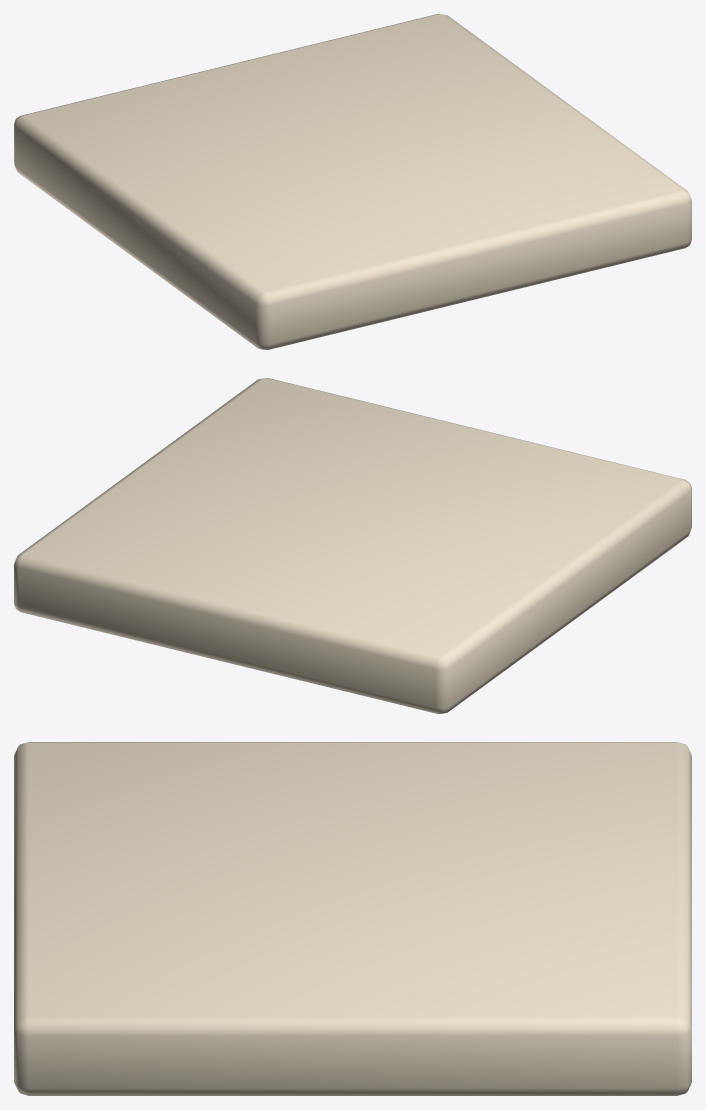
The model's file is pipe_pad.glb.
The picture shows the model from 3 angles, top to bottom: view 1: azimuth 30°, elevation 25°; view 2: azimuth 150°, elevation 25°; view 3: azimuth 270°, elevation 25°; orthographic projection. The views are drawn at different scales.
Visible parts, largest first — view 1: Pad_Body; view 2: Pad_Body; view 3: Pad_Body.
Part boxes in pixels (<box>): Pad_Body: <box>14,14,691,349</box>; Pad_Body: <box>14,378,691,713</box>; Pad_Body: <box>14,742,691,1095</box>.
Size of the model in its own units: 0.94 by 0.12 by 0.94.
